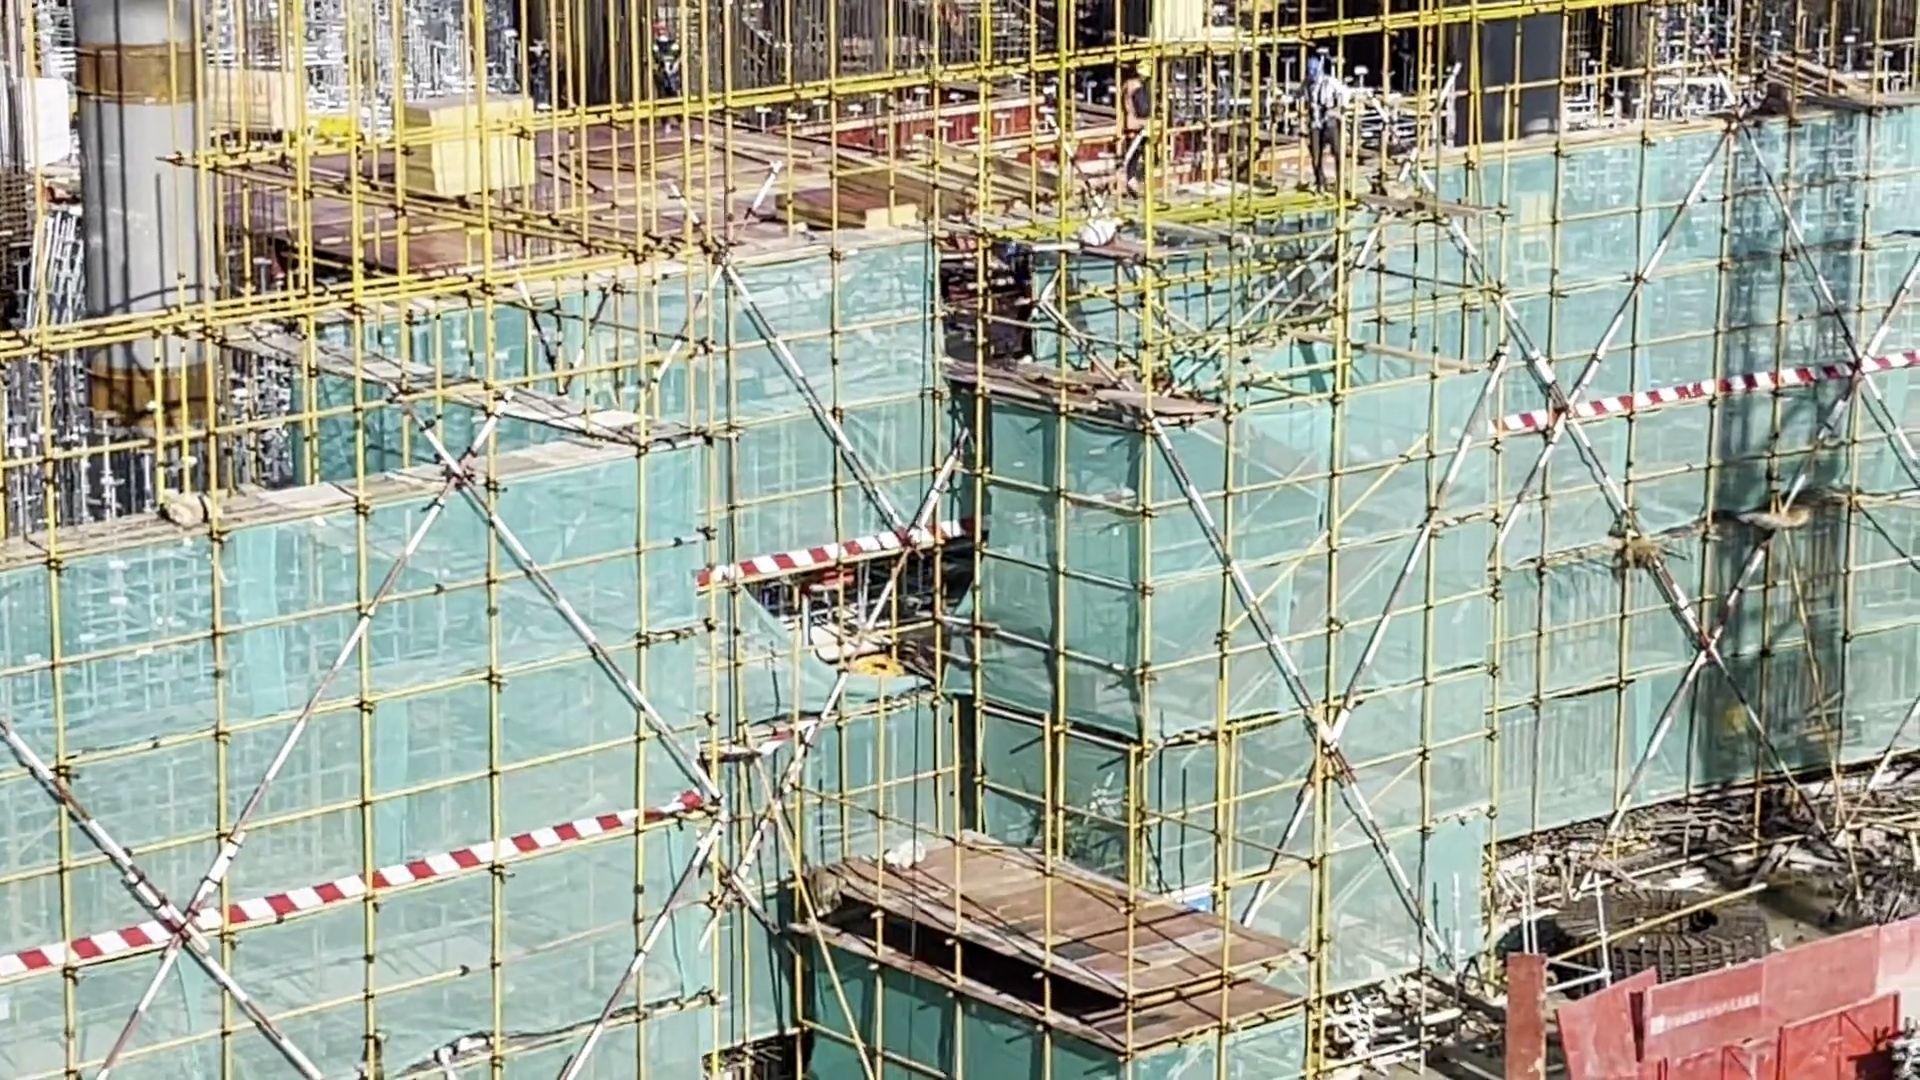helmet: (1299, 42, 1332, 81), (1133, 52, 1168, 74), (650, 14, 679, 31)
person: (1299, 51, 1345, 185), (1120, 56, 1154, 204), (639, 13, 678, 122)
vest: (1116, 76, 1155, 126), (1304, 85, 1346, 124), (650, 38, 677, 76)
